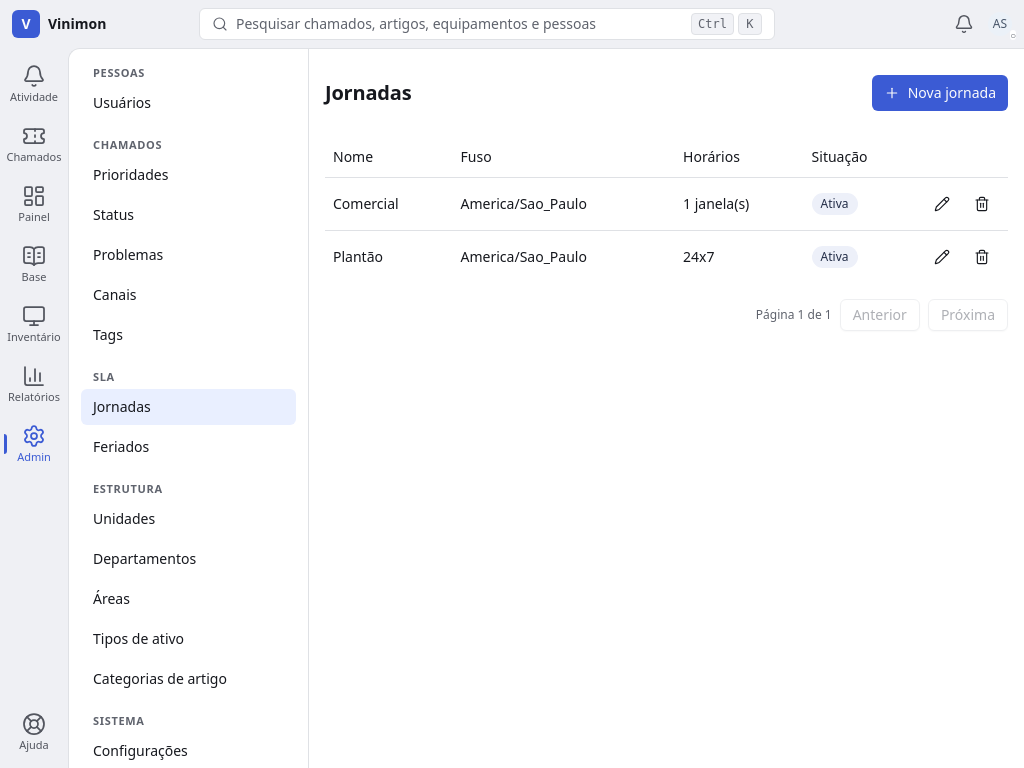
Test case: /admin/jornadas › (b) excluir confirma e faz DELETE /jornadas/:id
The width and height of the screenshot is (1024, 768).
Click the button named "Excluir Comercial" at (982,204), box [964,186,1000,222]
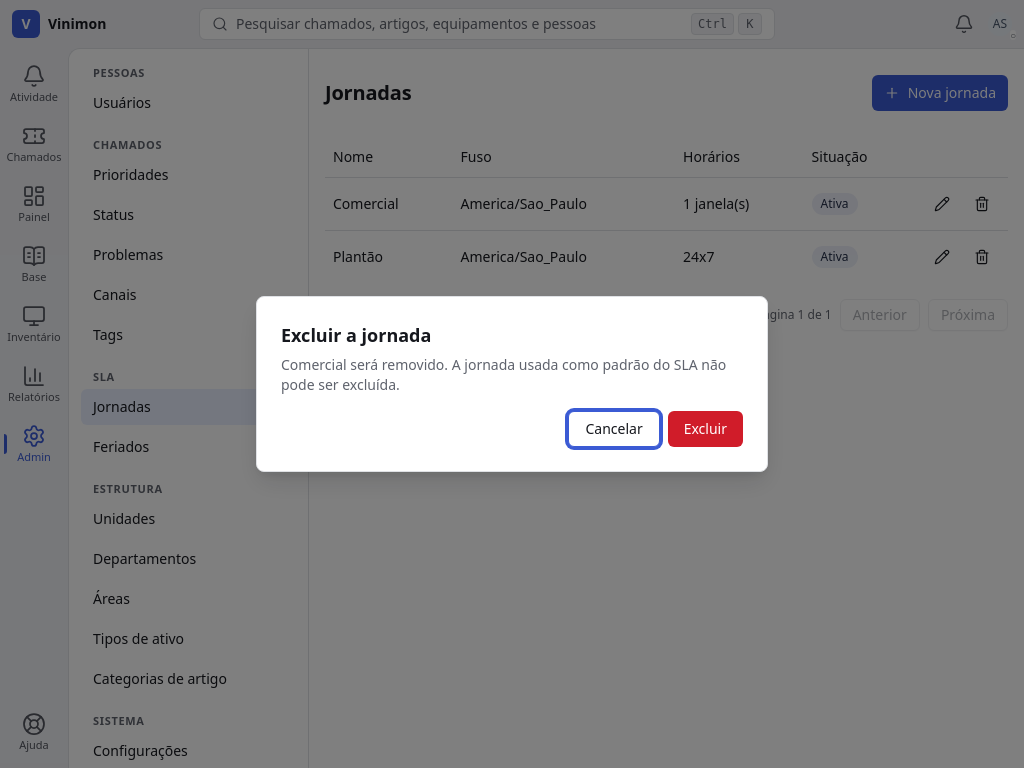
Click the button "Excluir" at (705,429), box [668,411,743,447]
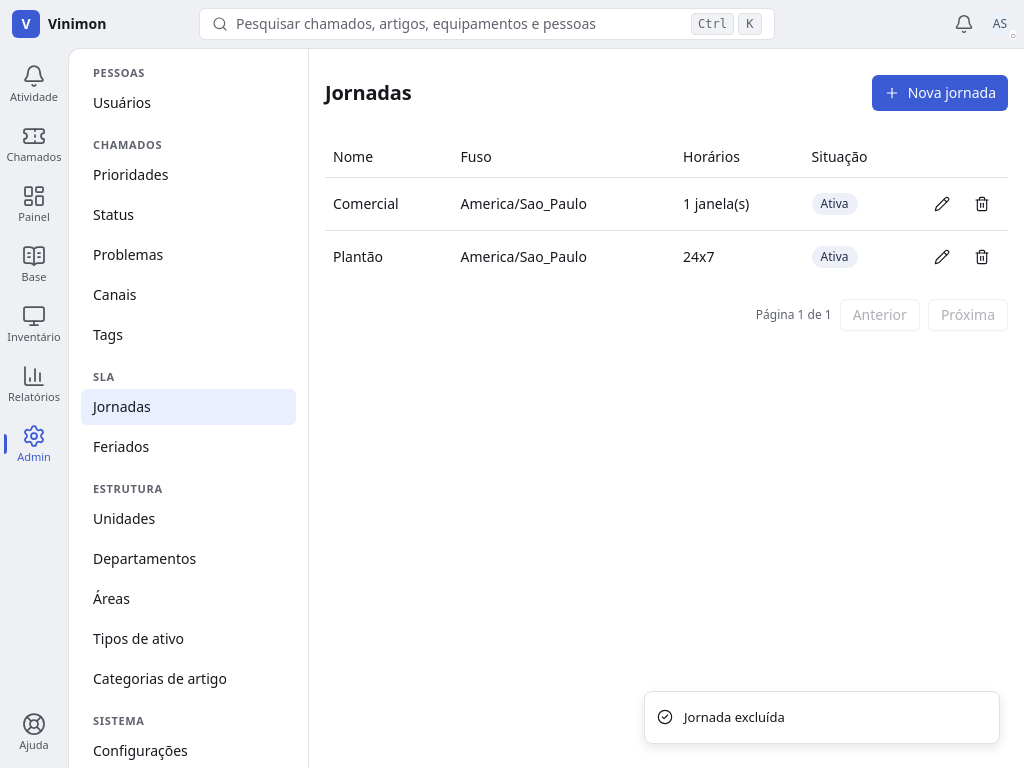
Result: the text "Jornada excluída" is shown at [684,708,785,727]
